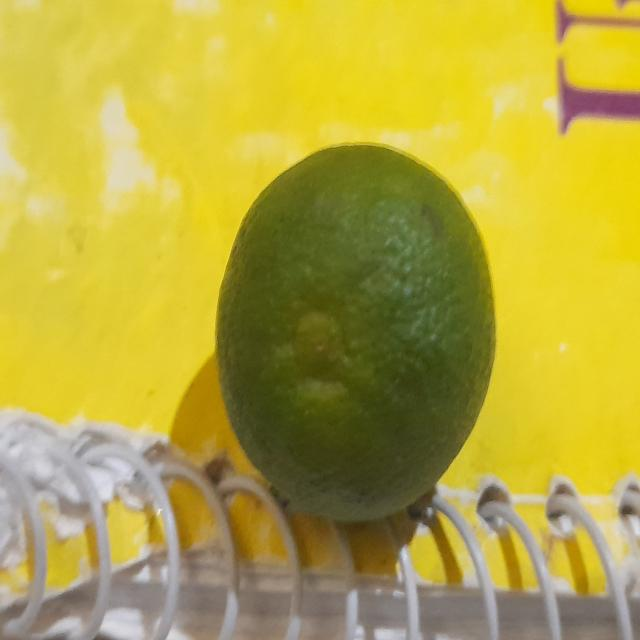heathy: (215, 143, 498, 527)
